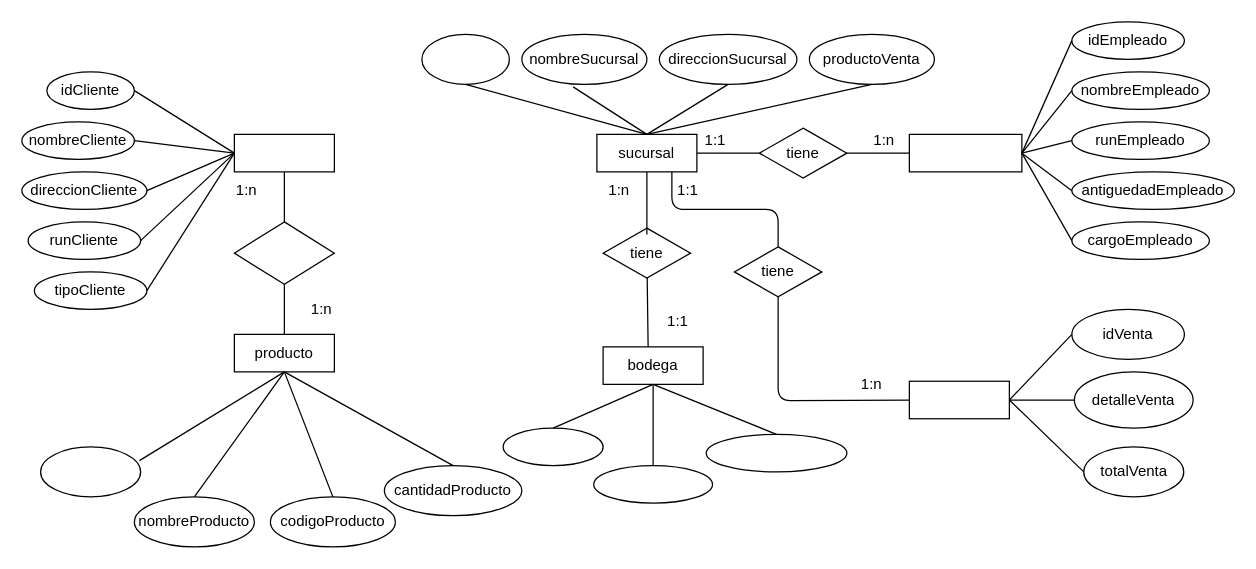
Some shapes in this 1256 by 569 pixel diagram are drawn without their labels. Here are the shapes that lost their labels. From the top down, the centre of each, then its label:
(x=465, y=58): idSucursal
(x=283, y=152): cliente
(x=965, y=152): empleado
(x=283, y=252): compra
(x=958, y=399): ventas
(x=552, y=446): idBodega
(x=776, y=452): ubicacionProducto
(x=90, y=471): idProducto
(x=652, y=483): stockProducto
